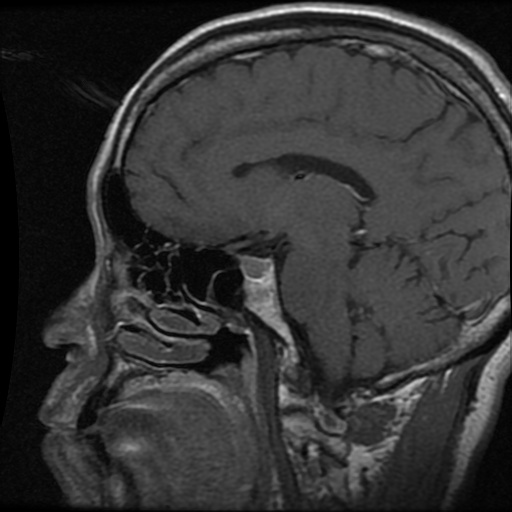pituitary: (242, 255, 269, 278)
